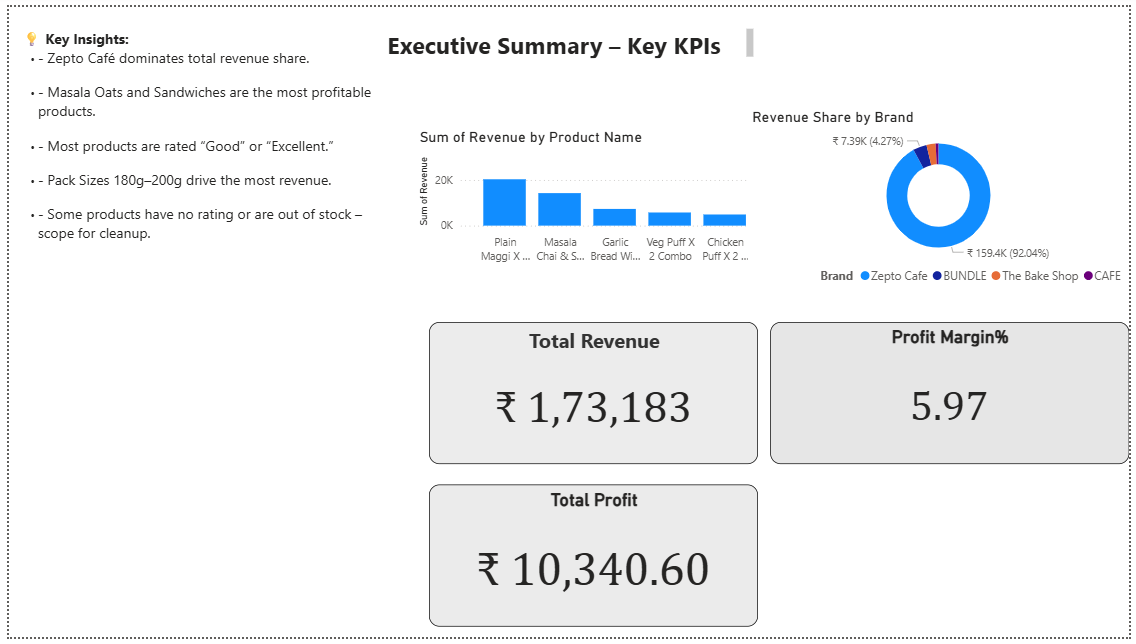

What the dashboard file says about the page in this screenshot:
{"tool":"powerbi","page":{"name":"Page 4","canvas":[1280,720],"ordinal":3},"visuals":[{"type":"card","title":"Total Revenue","fields":{"Values":["Sum(Zepto Cafe.Revenue)"]},"box":[480,360,376.2,162.5],"z":0},{"type":"card","title":"Total Profit","fields":{"Values":["Sum(Zepto Cafe.Profit)"]},"box":[480,546.2,376.2,162.5],"z":1000},{"type":"card","title":"Profit Margin%","fields":{"Values":["Zepto Cafe.Profit Margin %"]},"box":[870,360,410,162.5],"z":2000},{"type":"clusteredColumnChart","fields":{"Category":["Zepto Cafe.Product Name"],"Y":["Sum(Zepto Cafe.Revenue)"]},"box":[463.8,138.8,410,162.5],"z":3000},{"type":"donutChart","title":"Revenue Share by Brand","fields":{"Category":["Zepto Cafe.Brand"],"Y":["Sum(Zepto Cafe.Revenue)"]},"box":[843.8,115,436.2,210],"z":4000},{"type":"textbox","box":[397.5,20,458.8,43.8],"z":5000},{"type":"textbox","box":[10,20,410,688.8],"z":6000}]}

Visuals, with their boxes in screenshot pixels (x1, y1, x2, y2), scaled from the page's 1280x720 canvas onto the 1136x644 screenshot:
"Total Revenue" card: crop(426, 322, 760, 467)
"Total Profit" card: crop(426, 489, 760, 634)
"Profit Margin%" card: crop(772, 322, 1135, 467)
clusteredColumnChart - Zepto Cafe.Product Name x Sum(Zepto Cafe.Revenue): crop(412, 124, 775, 269)
"Revenue Share by Brand" donutChart: crop(749, 103, 1135, 291)
textbox: crop(353, 18, 760, 57)
textbox: crop(9, 18, 373, 634)
